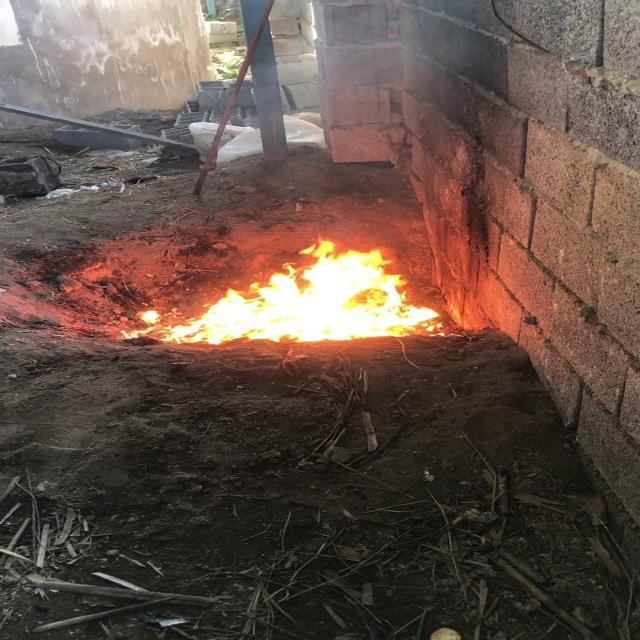fire: (162, 241, 433, 339)
